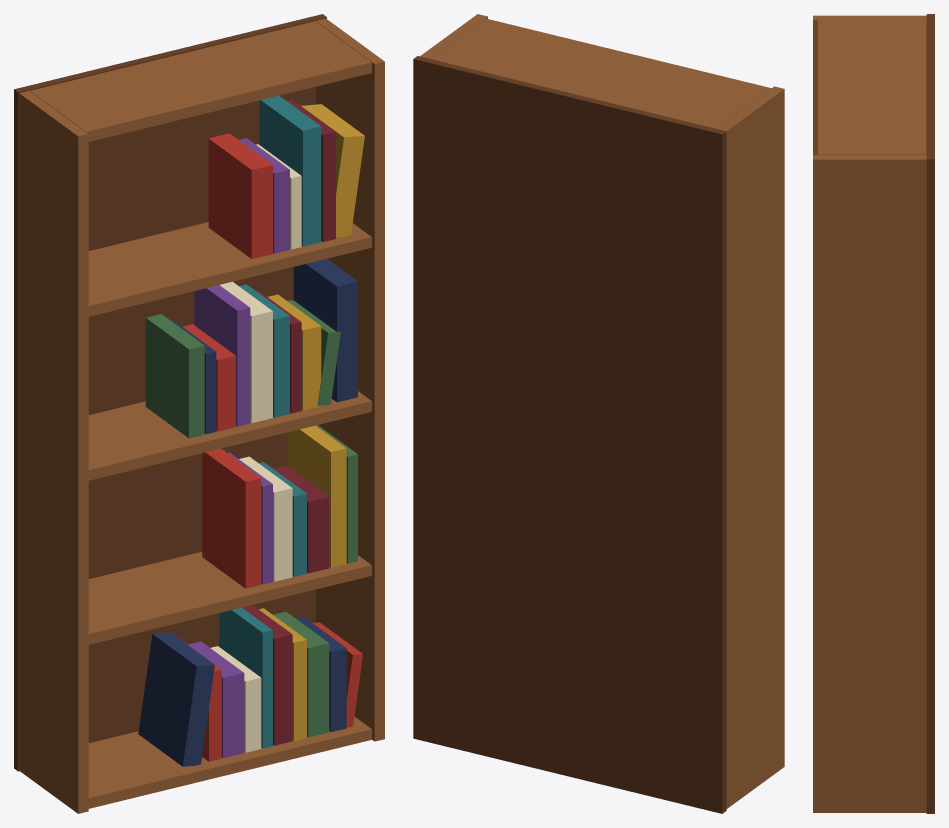
Rendered from bookshelf.fbx.
3 renders of one model, left to right at view 1: azimuth 30°, elevation 25°; view 2: azimuth 150°, elevation 25°; view 3: azimuth 270°, elevation 25°, orthographic. The views are drawn at different scales.
Parts seen in each view (by area): view 1: bookshelf; view 2: bookshelf; view 3: bookshelf.
Part boxes in pixels (x1=…): bookshelf: x1=14, y1=14, x2=384, y2=813; bookshelf: x1=413, y1=14, x2=784, y2=813; bookshelf: x1=813, y1=14, x2=934, y2=813.
Size of the model in its own units: 3.62 by 7.62 by 1.29.
